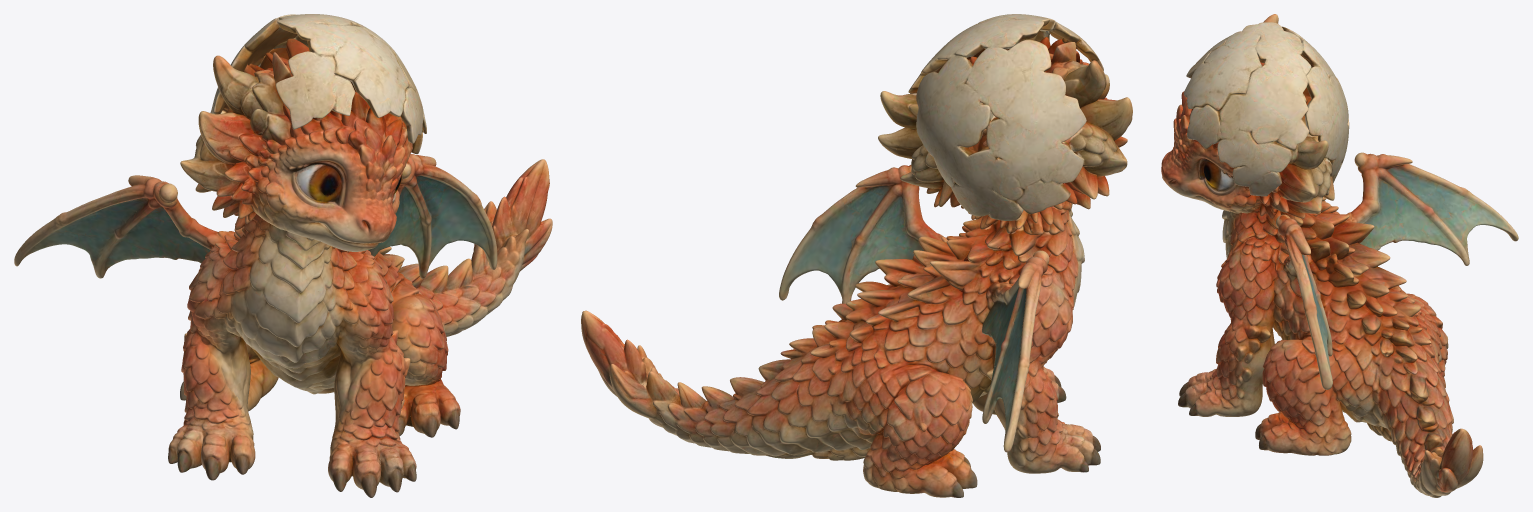
The model's file is grab3d-baby-dragon.glb.
3 views of the same model, side by side, from view 1: azimuth 30°, elevation 25°; view 2: azimuth 150°, elevation 25°; view 3: azimuth 270°, elevation 25° (orthographic). The views are drawn at different scales.
Parts seen in each view (by area): view 1: baby-dragon; view 2: baby-dragon; view 3: baby-dragon.
Part boxes in pixels (<box>): baby-dragon: <box>14,14,552,497</box>; baby-dragon: <box>581,14,1132,497</box>; baby-dragon: <box>1161,14,1518,497</box>.
Bounding box in the file's own units: 0.5499 × 0.4656 × 0.4179.
Materials: 1 (1 with a texture image).
